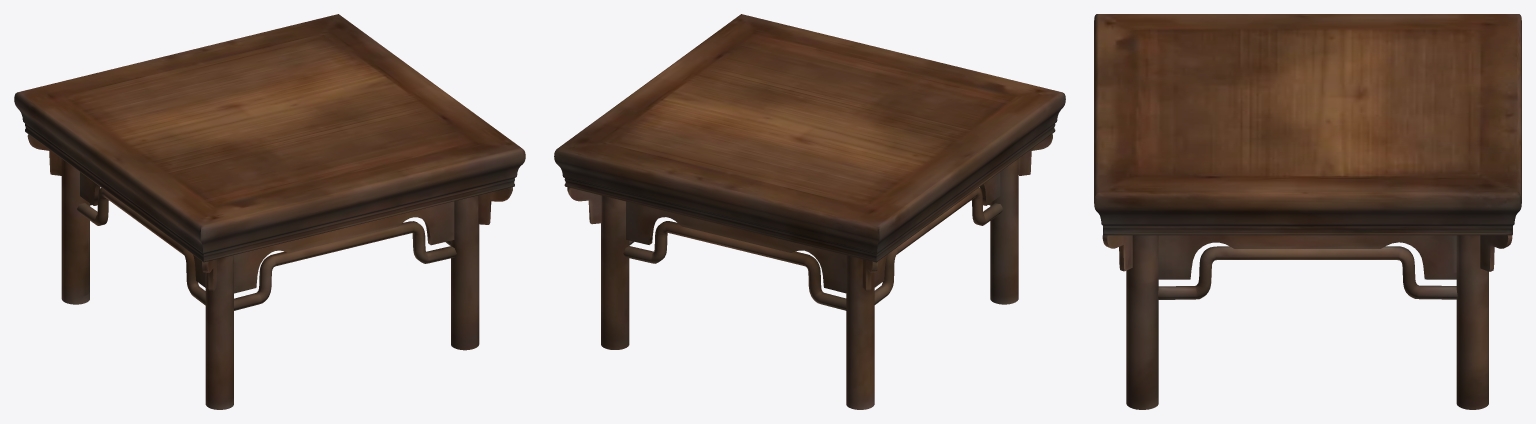
Rendered from chinese_tea_table.glb.
3 views of the same model, side by side, from view 1: azimuth 30°, elevation 25°; view 2: azimuth 150°, elevation 25°; view 3: azimuth 270°, elevation 25° (orthographic). The views are drawn at different scales.
Visible parts, largest first — view 1: chinese_tea_table; view 2: chinese_tea_table; view 3: chinese_tea_table.
Boxes of the visible parts, x1,y1,x2,y2 form: chinese_tea_table: (14, 14, 525, 409); chinese_tea_table: (554, 14, 1065, 409); chinese_tea_table: (1094, 14, 1521, 409).
Bounding box in the file's own units: 0.8413 × 0.4987 × 0.8357.
1 material, 1 textured.
